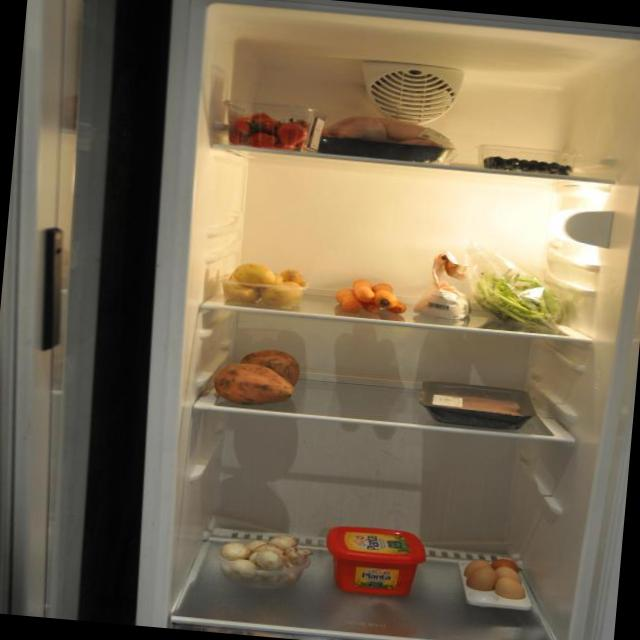Carne pollo: (320, 111, 460, 170), (428, 379, 524, 433)
Champiñones: (215, 526, 316, 590)
Huevos: (459, 550, 536, 602)
Mantequilla: (320, 523, 430, 604)
Patata: (215, 256, 308, 310)
Zanahoria: (330, 276, 415, 322)
blueberries: (476, 148, 581, 180)
flour: (419, 246, 485, 324)
green_beans: (481, 251, 588, 339)
strawberries: (223, 102, 314, 158)
sweet_potato: (211, 342, 305, 414)
